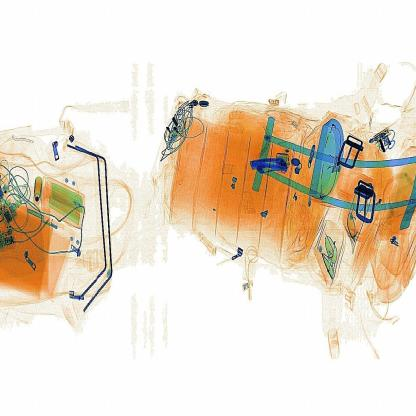knife: (242, 148, 300, 177)
